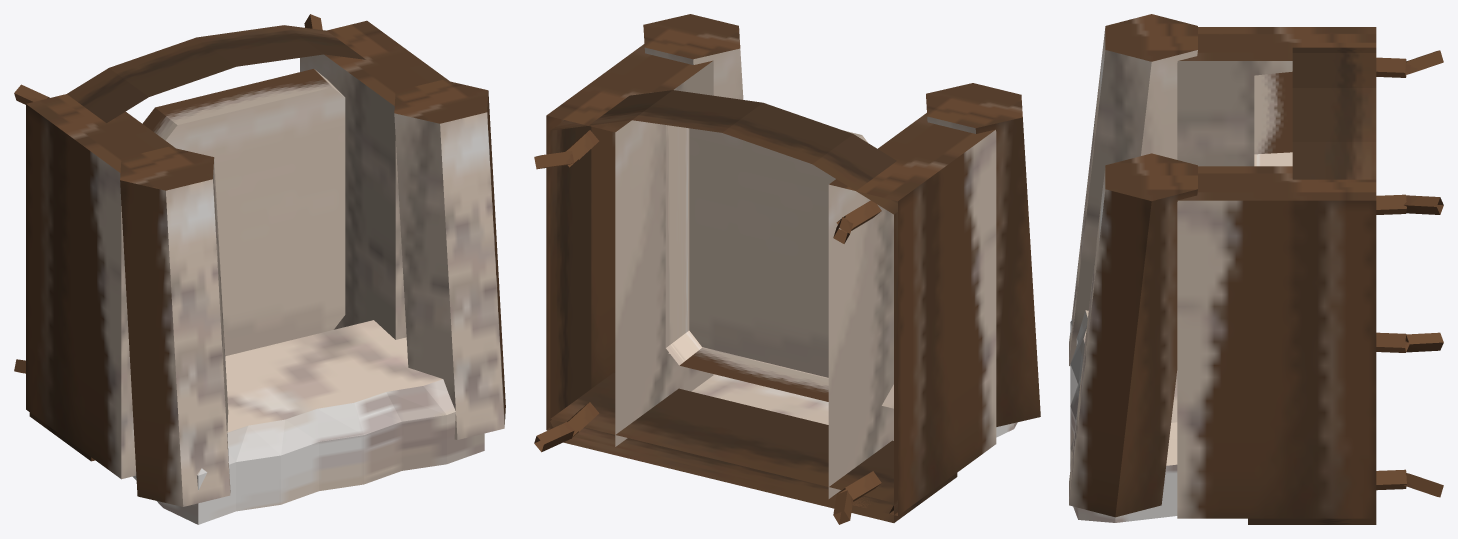
Rendered from pz_chair_seating_indoor_03_victorian_6_fidelity_r1.obj.
3 views of the same model, side by side, from view 1: azimuth 30°, elevation 25°; view 2: azimuth 150°, elevation 25°; view 3: azimuth 270°, elevation 25° (orthographic). The views are drawn at different scales.
Parts seen in each view (by area): view 1: pz_chair_seating_indoor_03_victorian_6__seat_0__seat, pz_chair_seating_indoor_03_victorian_6__chester_side_-1__arm, pz_chair_seating_indoor_03_victorian_6__sculpted_back__back, pz_chair_seating_indoor_03_victorian_6__chester_roll_-1__arm, pz_chair_seating_indoor_03_victorian_6__chester_roll_1__arm, pz_chair_seating_indoor_03_victorian_6__chester_side_1__arm, pz_chair_seating_indoor_03_victorian_6__bowed_wood_apron__frame; view 2: pz_chair_seating_indoor_03_victorian_6__chester_side_-1__arm, pz_chair_seating_indoor_03_victorian_6__seat_0__seat, pz_chair_seating_indoor_03_victorian_6__chester_side_1__arm, pz_chair_seating_indoor_03_victorian_6__bowed_wood_apron__frame, pz_chair_seating_indoor_03_victorian_6__rear_body_bridge__frame, pz_chair_seating_indoor_03_victorian_6__chester_roll_-1__arm, pz_chair_seating_indoor_03_victorian_6__chester_roll_1__arm, pz_chair_seating_indoor_03_victorian_6__sculpted_back__back, pz_chair_seating_indoor_03_victorian_6__curved_foot_1_-1_0__fram, pz_chair_seating_indoor_03_victorian_6__curved_foot_-1_1_1__fram, pz_chair_seating_indoor_03_victorian_6__curved_foot_-1_-1_1__fra; view 3: pz_chair_seating_indoor_03_victorian_6__chester_side_1__arm, pz_chair_seating_indoor_03_victorian_6__chester_roll_1__arm, pz_chair_seating_indoor_03_victorian_6__chester_roll_-1__arm, pz_chair_seating_indoor_03_victorian_6__chester_side_-1__arm, pz_chair_seating_indoor_03_victorian_6__bowed_wood_apron__frame, pz_chair_seating_indoor_03_victorian_6__seat_0__seat, pz_chair_seating_indoor_03_victorian_6__sculpted_back__back, pz_chair_seating_indoor_03_victorian_6__rear_body_bridge__frame, pz_chair_seating_indoor_03_victorian_6__curved_foot_-1_-1_0__fra, pz_chair_seating_indoor_03_victorian_6__curved_foot_1_1_0__frame, pz_chair_seating_indoor_03_victorian_6__curved_foot_1_-1_1__fram, pz_chair_seating_indoor_03_victorian_6__curved_foot_1_1_1__frame (+4 smaller).
Boxes of the visible parts, <box> form: pz_chair_seating_indoor_03_victorian_6__seat_0__seat: <box>142,69,345,356</box>; pz_chair_seating_indoor_03_victorian_6__chester_side_-1__arm: <box>26,94,175,479</box>; pz_chair_seating_indoor_03_victorian_6__sculpted_back__back: <box>132,320,484,524</box>; pz_chair_seating_indoor_03_victorian_6__chester_roll_-1__arm: <box>120,146,230,506</box>; pz_chair_seating_indoor_03_victorian_6__chester_roll_1__arm: <box>394,80,505,439</box>; pz_chair_seating_indoor_03_victorian_6__chester_side_1__arm: <box>300,20,449,339</box>; pz_chair_seating_indoor_03_victorian_6__bowed_wood_apron__frame: <box>67,25,365,122</box>; pz_chair_seating_indoor_03_victorian_6__chester_side_-1__arm: <box>828,113,996,515</box>; pz_chair_seating_indoor_03_victorian_6__seat_0__seat: <box>665,125,867,401</box>; pz_chair_seating_indoor_03_victorian_6__chester_side_1__arm: <box>546,44,713,446</box>; pz_chair_seating_indoor_03_victorian_6__bowed_wood_apron__frame: <box>550,90,897,513</box>; pz_chair_seating_indoor_03_victorian_6__rear_body_bridge__frame: <box>550,372,957,522</box>; pz_chair_seating_indoor_03_victorian_6__chester_roll_-1__arm: <box>926,83,1040,426</box>; pz_chair_seating_indoor_03_victorian_6__chester_roll_1__arm: <box>643,14,743,99</box>; pz_chair_seating_indoor_03_victorian_6__sculpted_back__back: <box>668,347,1017,437</box>; pz_chair_seating_indoor_03_victorian_6__curved_foot_1_-1_0__fram: <box>534,422,574,452</box>; pz_chair_seating_indoor_03_victorian_6__curved_foot_-1_1_1__fram: <box>836,200,881,233</box>; pz_chair_seating_indoor_03_victorian_6__curved_foot_-1_-1_1__fra: <box>836,471,881,501</box>; pz_chair_seating_indoor_03_victorian_6__chester_side_1__arm: <box>1177,166,1376,518</box>; pz_chair_seating_indoor_03_victorian_6__chester_roll_1__arm: <box>1069,153,1197,517</box>; pz_chair_seating_indoor_03_victorian_6__chester_roll_-1__arm: <box>1069,14,1197,365</box>; pz_chair_seating_indoor_03_victorian_6__chester_side_-1__arm: <box>1177,27,1376,166</box>; pz_chair_seating_indoor_03_victorian_6__bowed_wood_apron__frame: <box>1292,47,1376,179</box>; pz_chair_seating_indoor_03_victorian_6__seat_0__seat: <box>1254,71,1292,166</box>; pz_chair_seating_indoor_03_victorian_6__sculpted_back__back: <box>1070,310,1177,522</box>; pz_chair_seating_indoor_03_victorian_6__rear_body_bridge__frame: <box>1248,518,1376,524</box>; pz_chair_seating_indoor_03_victorian_6__curved_foot_-1_-1_0__fra: <box>1405,332,1443,352</box>; pz_chair_seating_indoor_03_victorian_6__curved_foot_1_1_0__frame: <box>1403,195,1443,214</box>; pz_chair_seating_indoor_03_victorian_6__curved_foot_1_-1_1__fram: <box>1376,469,1406,490</box>; pz_chair_seating_indoor_03_victorian_6__curved_foot_1_1_1__frame: <box>1376,194,1406,214</box>.
Size of the model in its own units: 0.9792 by 0.8756 by 0.8284.
1 material, 1 textured.
